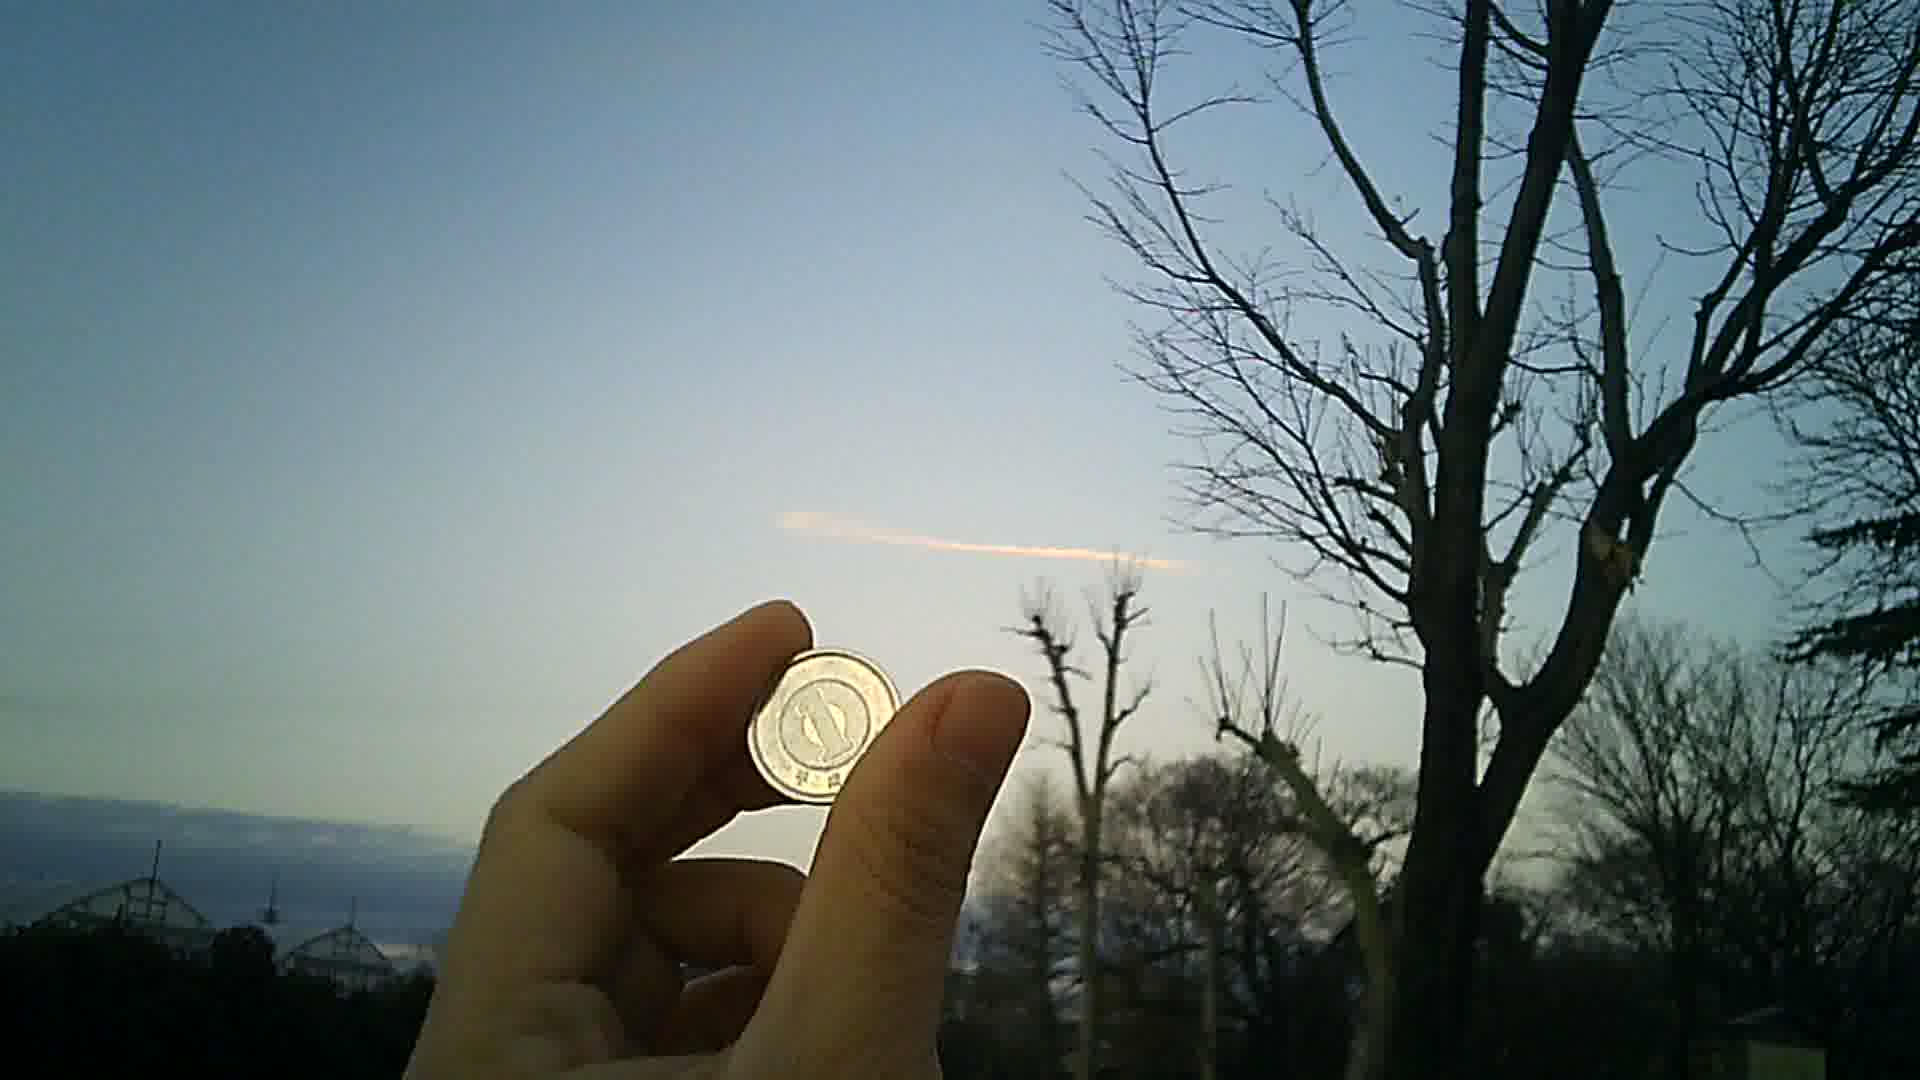1 Yen: (736, 646, 919, 791)
